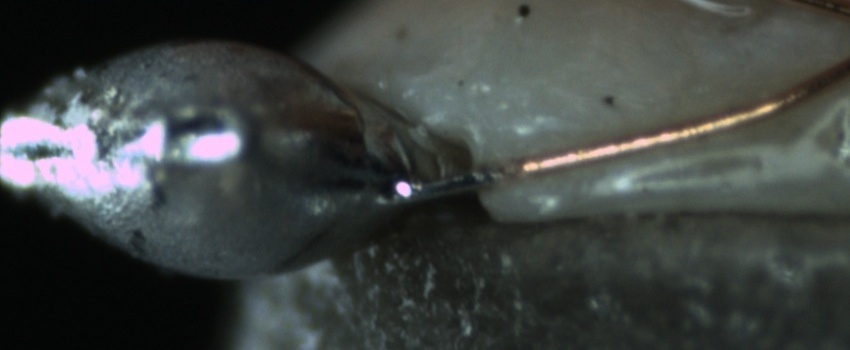TS: (392, 162, 506, 204)
TTCW: (391, 156, 532, 203)
